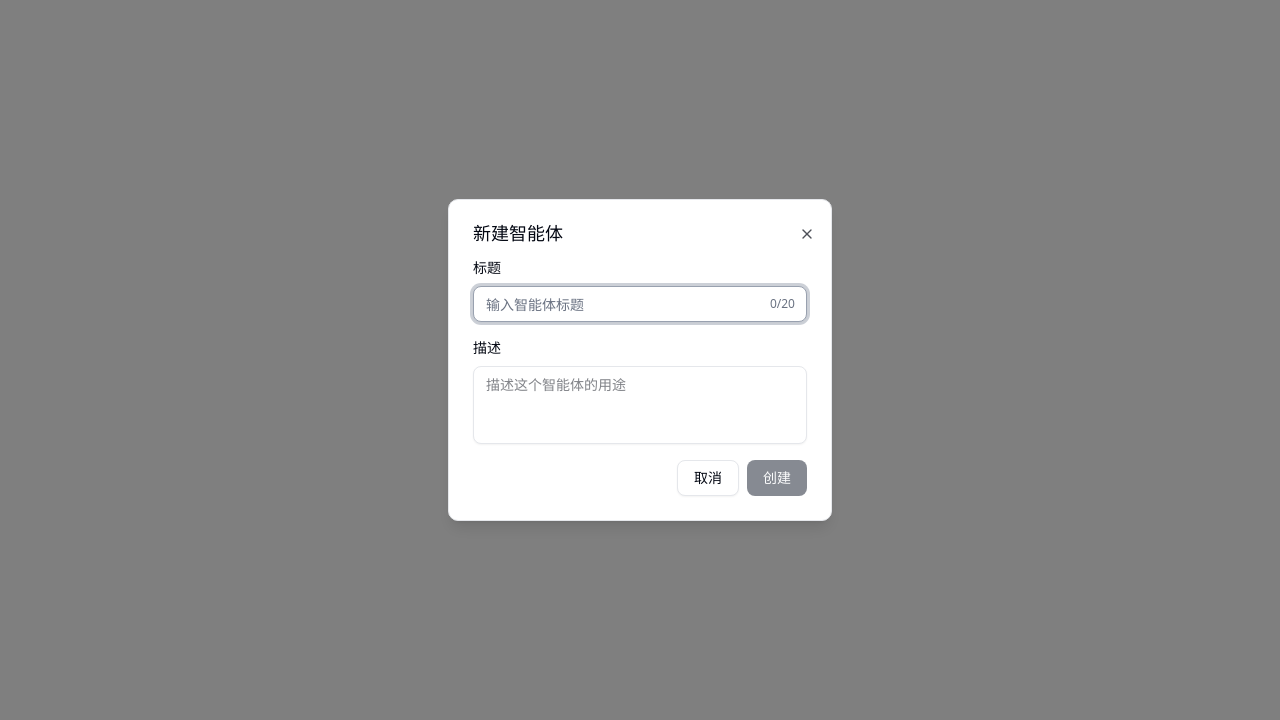
Test: NewAgentDialog i18n 与错误处理 › 后端返回 error_code 时展示本地化错误消息
In the field labelled "标题": (640, 304) [473, 286, 807, 322], type "测试"
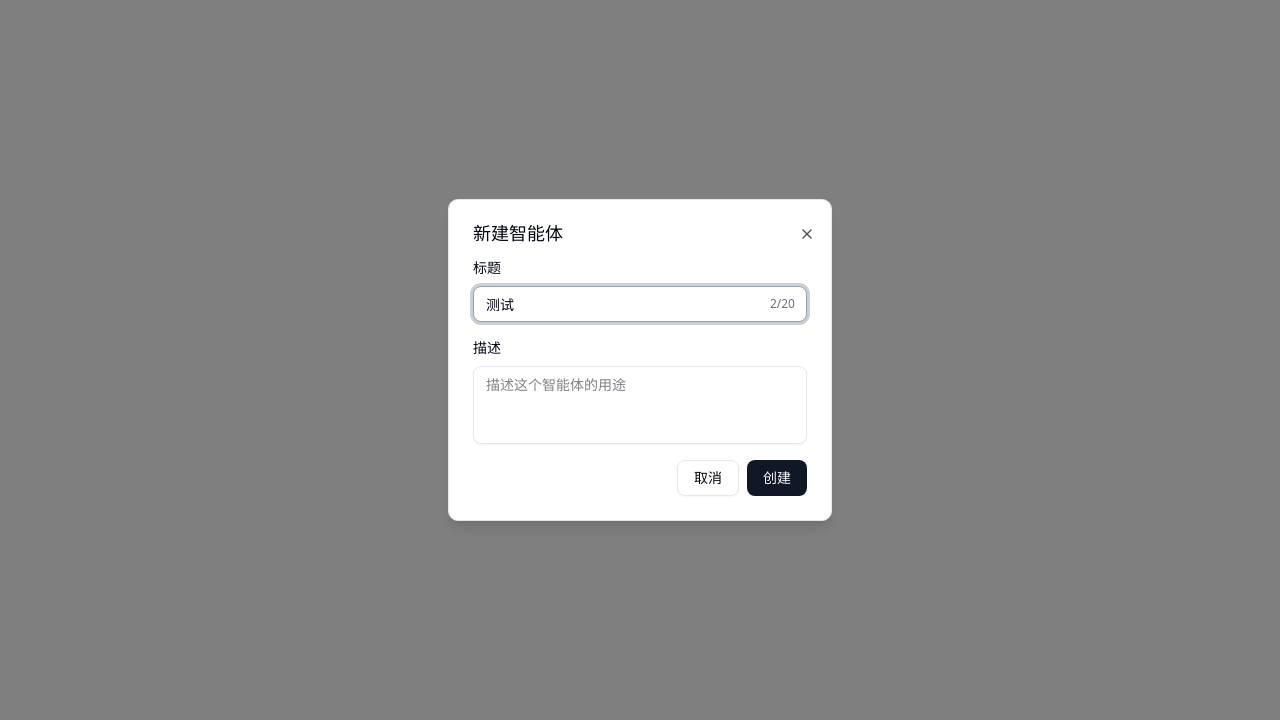
Click the button "创建": click(777, 478) [747, 460, 807, 496]
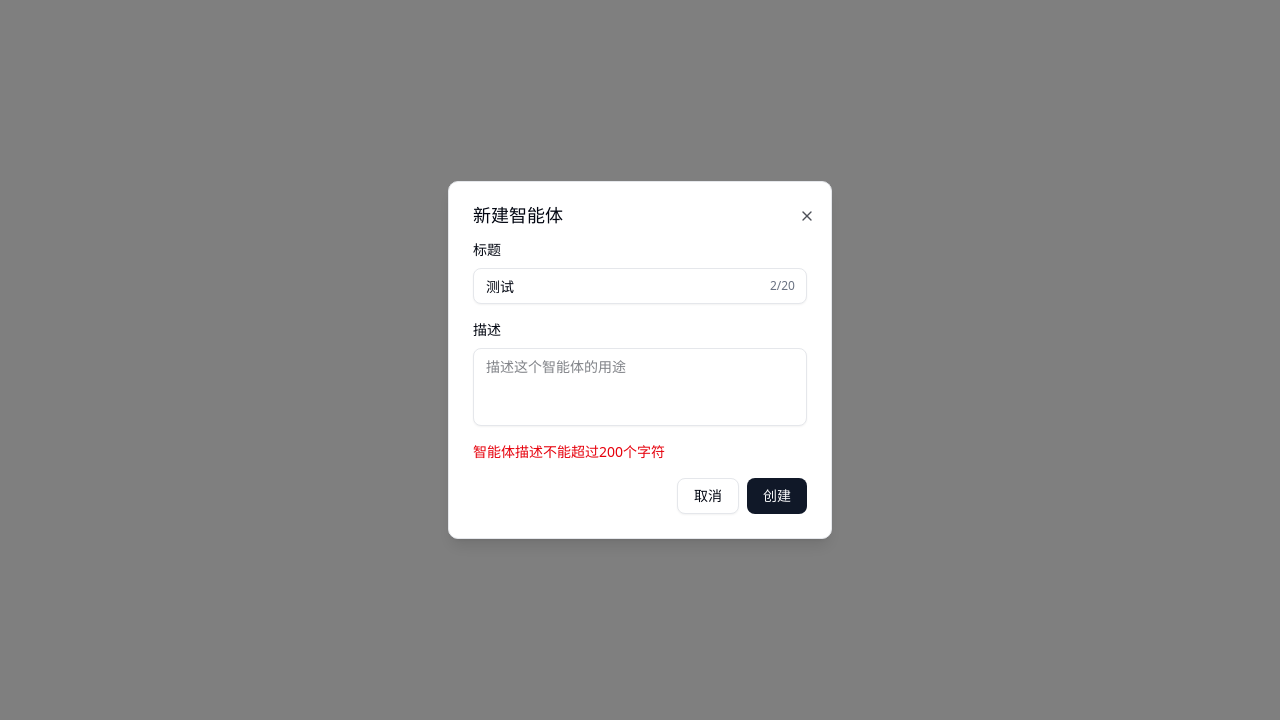
expect the text "智能体描述不能超过200个字符" is shown: met, box [473, 442, 665, 461]
